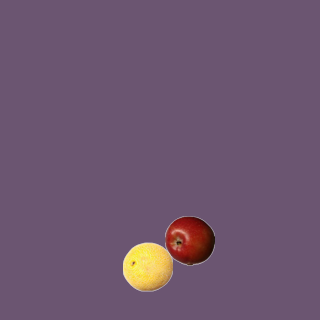Apple Braeburn: (164, 215, 214, 265)
Cantaloupe 1: (122, 241, 172, 291)
